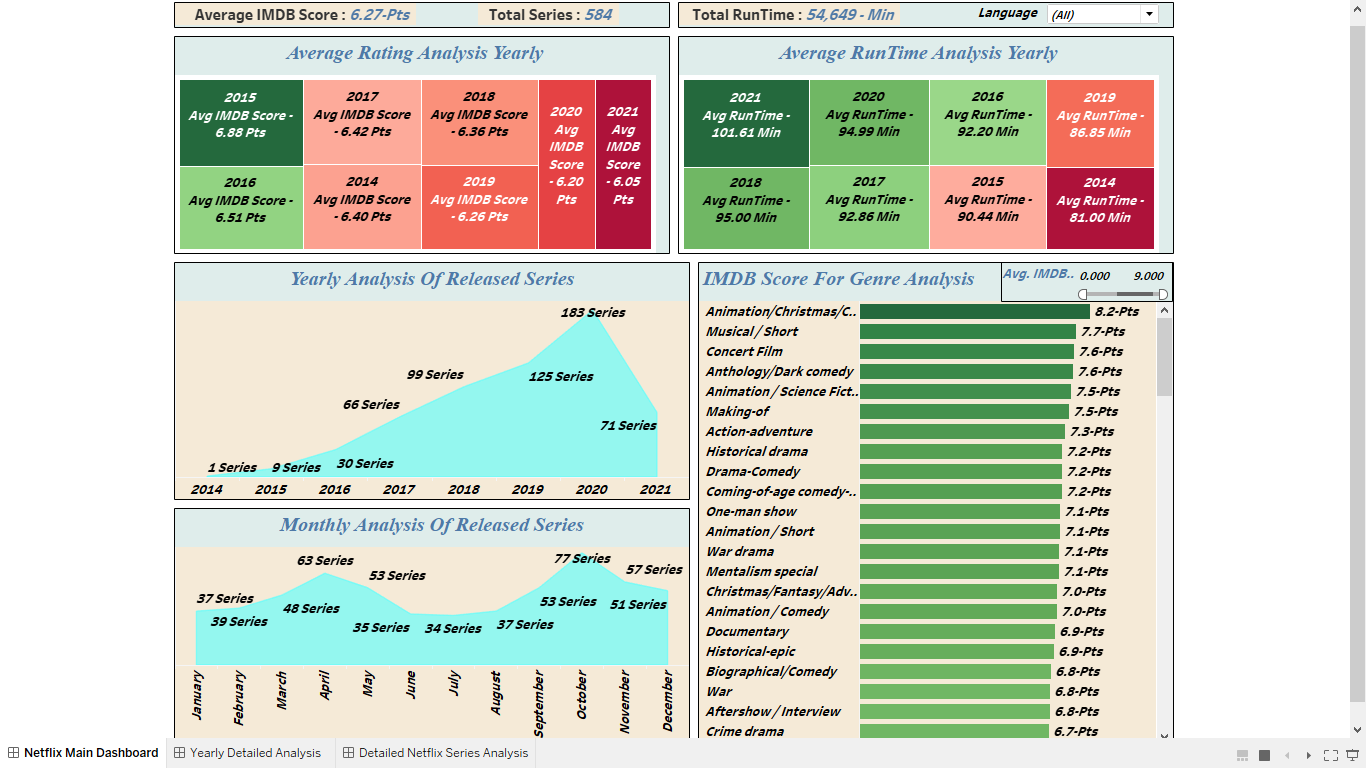

The dashboard page shown, as its layout file describes it:
{"tool":"tableau","page":{"name":"Netflix Main Dashboard","canvas":[1024,768],"ordinal":1},"visuals":[{"type":"worksheet","title":"Average IMDB Score","mark":"Automatic","box":[8,8,504,33.6]},{"type":"worksheet","title":"Total Run Time","mark":"Automatic","box":[512,8,504,33.6]},{"type":"filter","title":"IMDB Score For Genre Analysis","param":"[federated.1tkxf2s0w3jj241b6hjhf0vak2dk].[none:Language:nk]","box":[810,11.5,190.5,24]},{"type":"worksheet","title":"Total Series","mark":"Automatic","box":[316,13,157,24]},{"type":"worksheet","title":"Average Rating Analysis Yearly","mark":"Automatic","box":[8,41.6,504,226.4]},{"type":"worksheet","title":"Average RunTime Analysis Yearly","mark":"Automatic","box":[512,41.6,504,226.4]},{"type":"worksheet","title":"Yearly Analysis Of Released Series","mark":"Area","rows":["Netflix Data_7082F887FD1746DE9592BC4272462BFB"],"cols":["Premiere"],"box":[8,267.9,524.5,246]},{"type":"worksheet","title":"IMDB Score For Genre Analysis","mark":"Automatic","rows":["Genre"],"cols":["IMDB Score"],"box":[532.5,267.9,483.5,492.1]},{"type":"filter","title":"IMDB Score For Genre Analysis","param":"[federated.1tkxf2s0w3jj241b6hjhf0vak2dk].[avg:IMDB Score:qk]","box":[838.7,271.7,172,40.3]},{"type":"worksheet","title":"Monthly Analysis Of Released Series","mark":"Area","rows":["Netflix Data_7082F887FD1746DE9592BC4272462BFB"],"cols":["Premiere"],"box":[8,514,524.5,246]}]}

Visuals, with their boxes in screenshot pixels (x1, y1, x2, y2):
"Average IMDB Score" worksheet: box=[175, 0, 672, 30]
"Total Run Time" worksheet: box=[672, 0, 1170, 30]
"IMDB Score For Genre Analysis" filter: box=[966, 1, 1154, 24]
"Total Series" worksheet: box=[479, 2, 634, 26]
"Average Rating Analysis Yearly" worksheet: box=[175, 30, 672, 254]
"Average RunTime Analysis Yearly" worksheet: box=[672, 30, 1170, 254]
"Yearly Analysis Of Released Series" worksheet (Area marks): box=[175, 254, 693, 496]
"IMDB Score For Genre Analysis" worksheet: box=[693, 254, 1170, 739]
"IMDB Score For Genre Analysis" filter: box=[995, 257, 1164, 297]
"Monthly Analysis Of Released Series" worksheet (Area marks): box=[175, 496, 693, 739]
